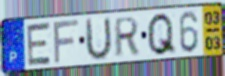6: (178, 8, 200, 56)
E: (26, 21, 53, 68)
F: (52, 18, 81, 66)
Q: (146, 11, 178, 58)
R: (113, 15, 141, 59)
U: (84, 15, 113, 63)
